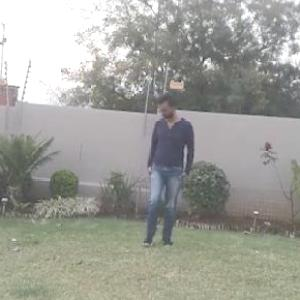follow: (142, 88, 193, 251)
